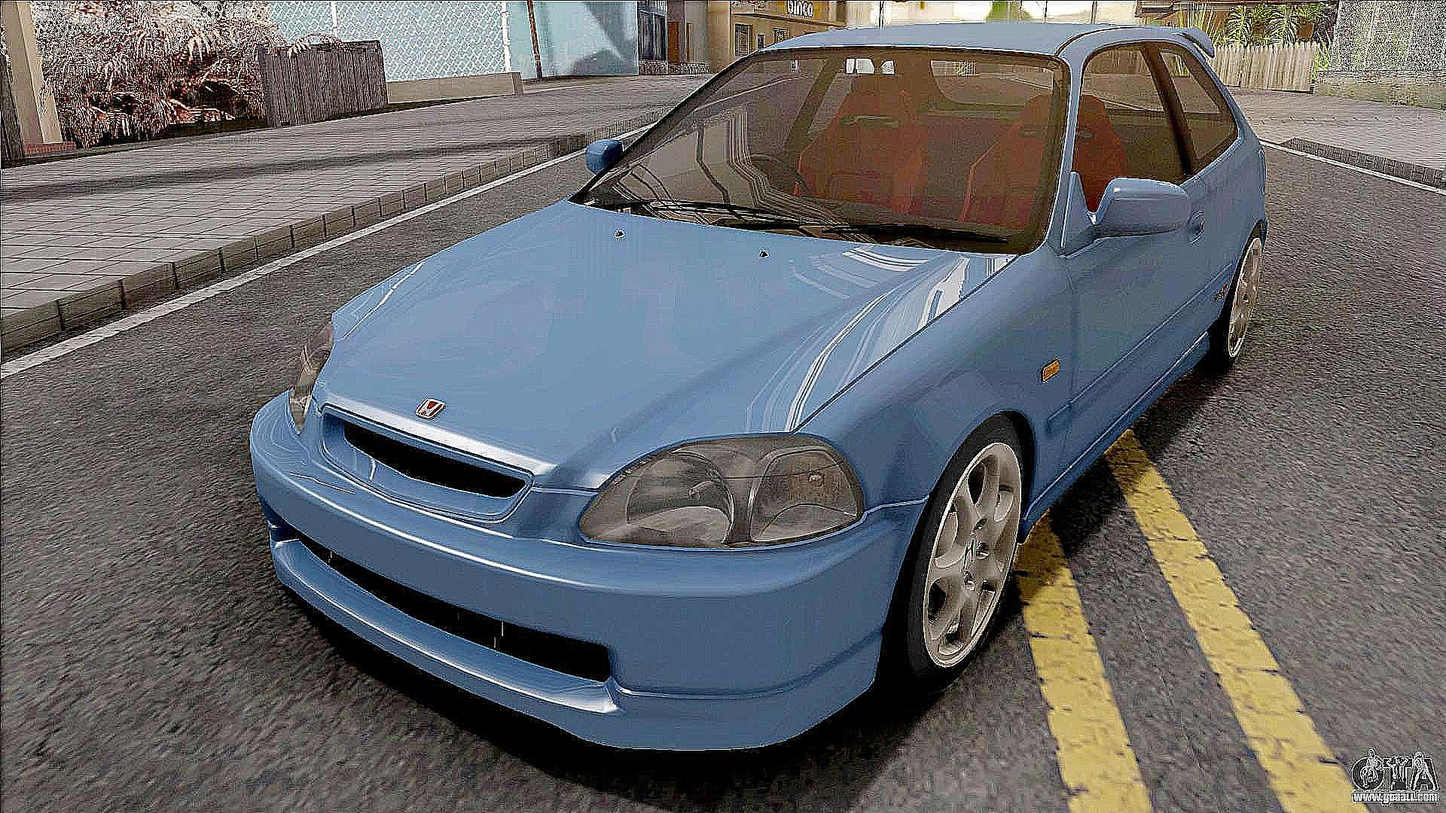Car hood: (305, 191, 1028, 488)
Fender - -F-L-: (814, 232, 1081, 592)
Front bumper: (244, 387, 929, 763)
Headlight - -L-: (574, 434, 873, 552)
Headlight - -R-: (282, 310, 343, 438)
Passenger-s door - -F-L-: (1032, 13, 1216, 559)
Side bumper - -L-: (1032, 281, 1238, 562)
Side mirror - -L-: (1061, 173, 1190, 257)
Side mirror - -R-: (583, 132, 623, 187)
